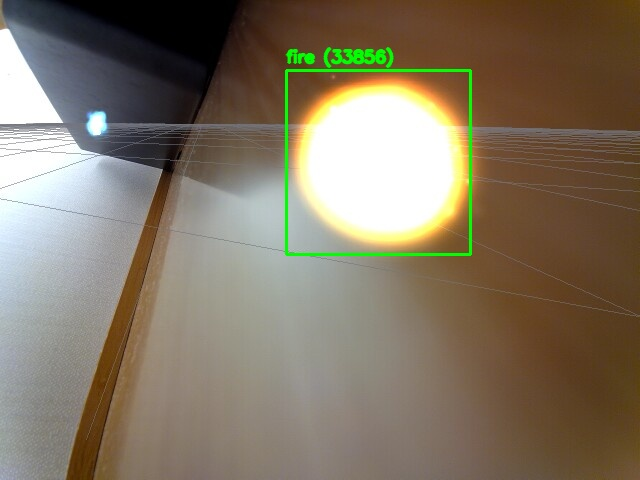fire: (286, 70, 470, 254)
